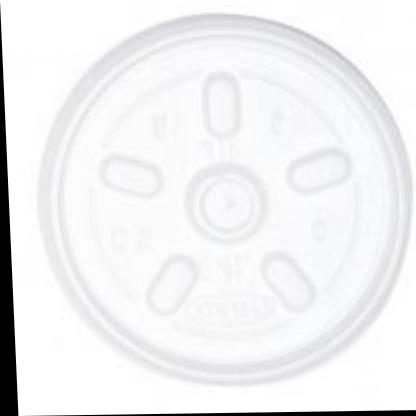trash: (1, 0, 415, 414), (39, 15, 411, 382)
